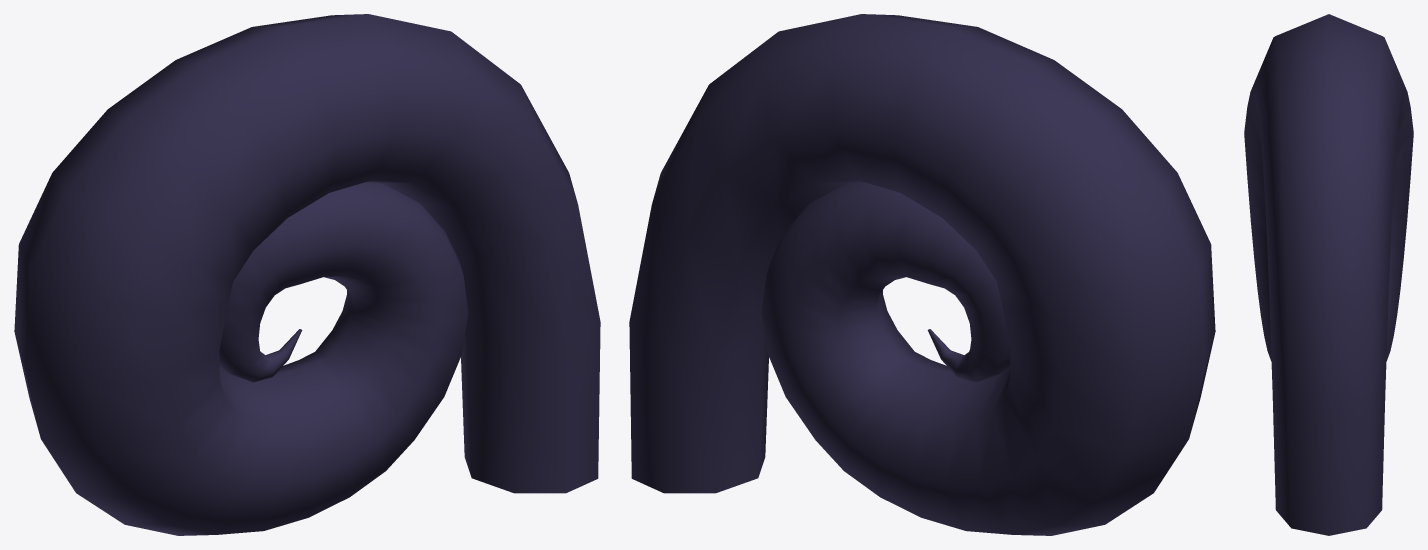
The model's file is quaternius-ultimate-space-bush-3-transformed.glb.
3 renders of one model, left to right at view 1: azimuth 30°, elevation 25°; view 2: azimuth 150°, elevation 25°; view 3: azimuth 270°, elevation 25°, orthographic. The views are drawn at different scales.
Parts seen in each view (by area): view 1: Bush_3; view 2: Bush_3; view 3: Bush_3.
Part boxes in pixels (x1=…): Bush_3: x1=14, y1=14, x2=600, y2=535; Bush_3: x1=629, y1=14, x2=1215, y2=535; Bush_3: x1=1244, y1=14, x2=1413, y2=535.
Size of the model in its own units: 1.86 by 1.58 by 0.6274.
Materials: 1 (1 with a texture image).
